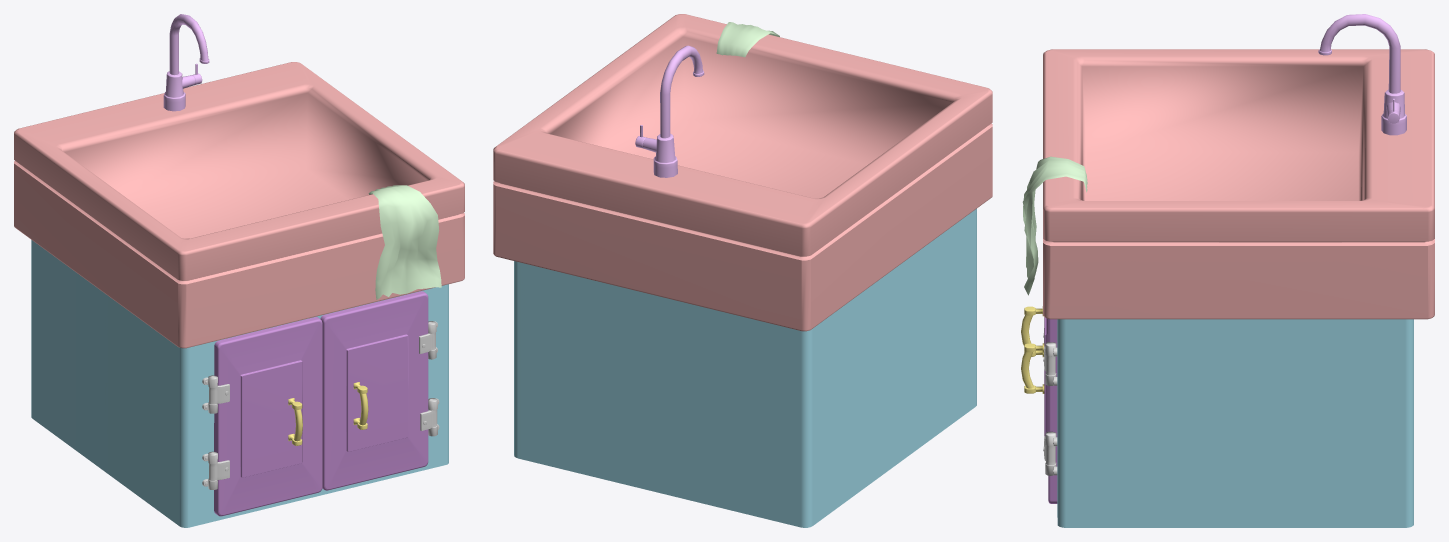
The model's file is Sink_Full.fbx.
The picture shows the model from 3 angles, left to right: view 1: azimuth 30°, elevation 25°; view 2: azimuth 150°, elevation 25°; view 3: azimuth 270°, elevation 25°; orthographic projection. The views are drawn at different scales.
Parts seen in each view (by area): view 1: Sink, SinkCounter, CabinetDoor1, CabinetDoor, Dishrag, Faucet, Hinge2, Hinge1, Hinge; view 2: Sink, SinkCounter, Faucet, Dishrag; view 3: Sink, SinkCounter, Faucet, Dishrag, CabinetDoor1, CabinetDoor_Handle.
Part boxes in pixels (x1,y1,x2,y2): Sink: (14,62,464,348); SinkCounter: (31,240,448,527); CabinetDoor1: (320,291,428,490); CabinetDoor: (214,317,322,516); Dishrag: (368,185,441,299); Faucet: (163,14,209,111); Hinge2: (208,375,229,413); Hinge1: (208,451,229,489); Hinge: (420,398,437,436); Sink: (493,14,992,331); SinkCounter: (514,208,976,527); Faucet: (653,45,704,177); Dishrag: (716,22,779,57); Sink: (1043,49,1434,319); SinkCounter: (1057,319,1413,527); Faucet: (1318,14,1406,135); Dishrag: (1022,156,1087,295); CabinetDoor1: (1044,317,1057,503); CabinetDoor_Handle: (1021,343,1044,393).
Size of the model in its own units: 1831 by 2334 by 1988.
